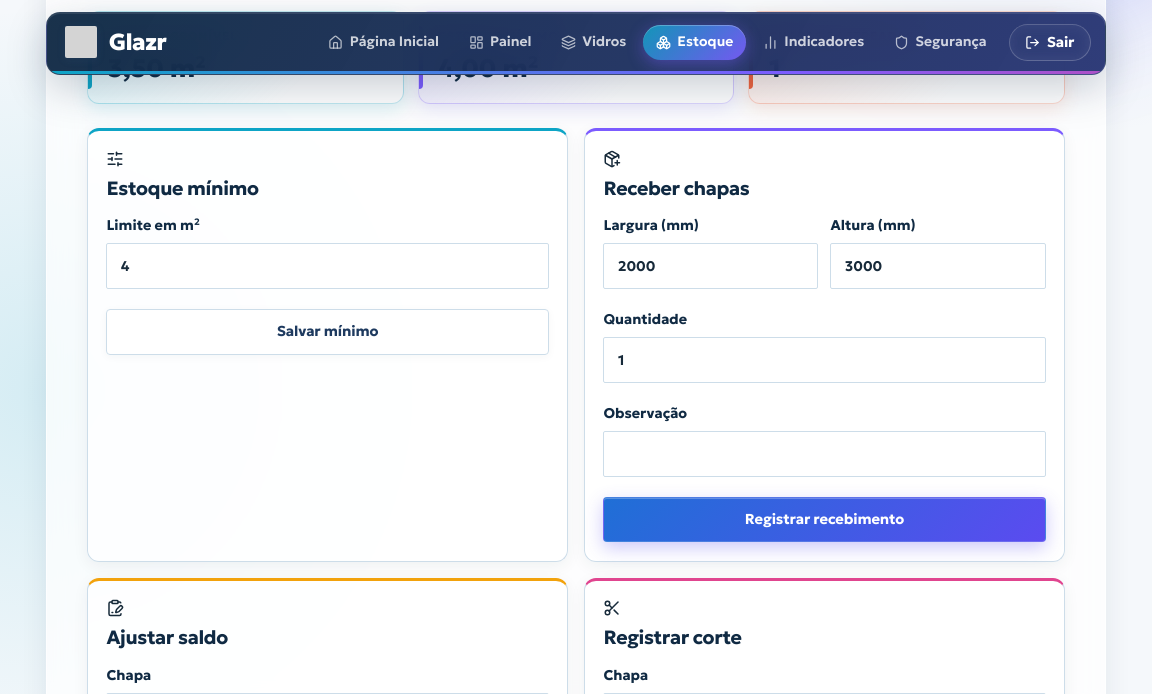
registers a sheet receipt with the authenticated CSRF flow
(page scrolled)
Replace the text in the number field named "Quantidade de chapas" with "2" at (824, 360), box [603,337,1046,383]
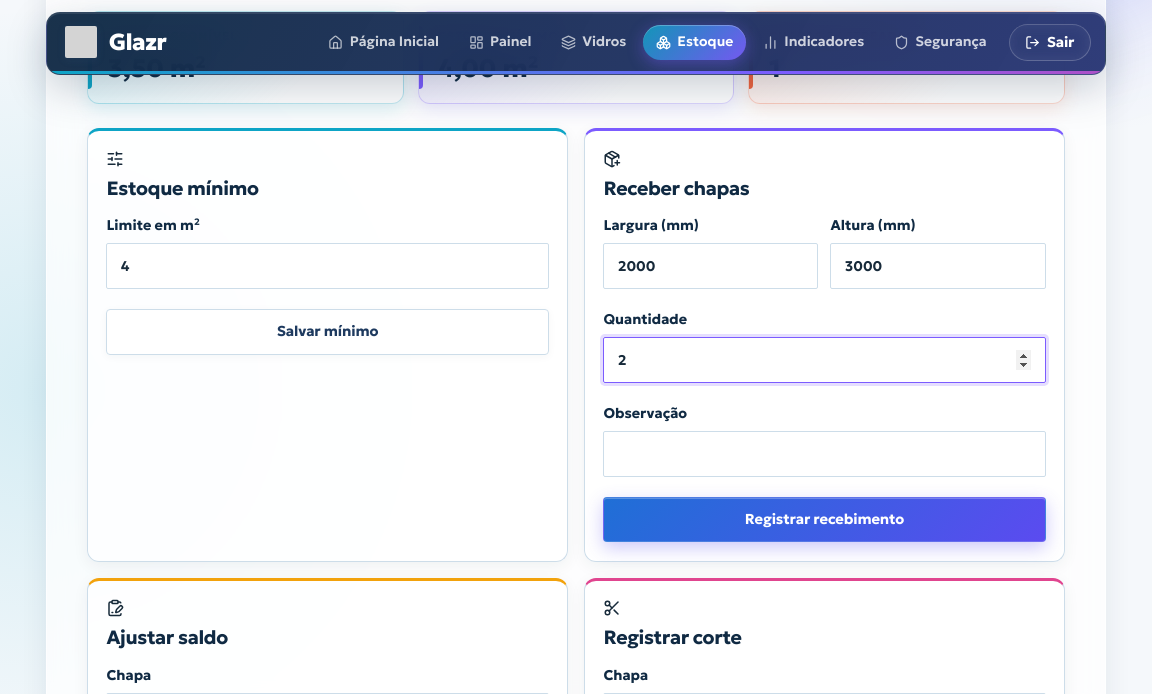
Type "Compra semanal" into the field named "Observação do recebimento" at (824, 454), box [603,431,1046,477]
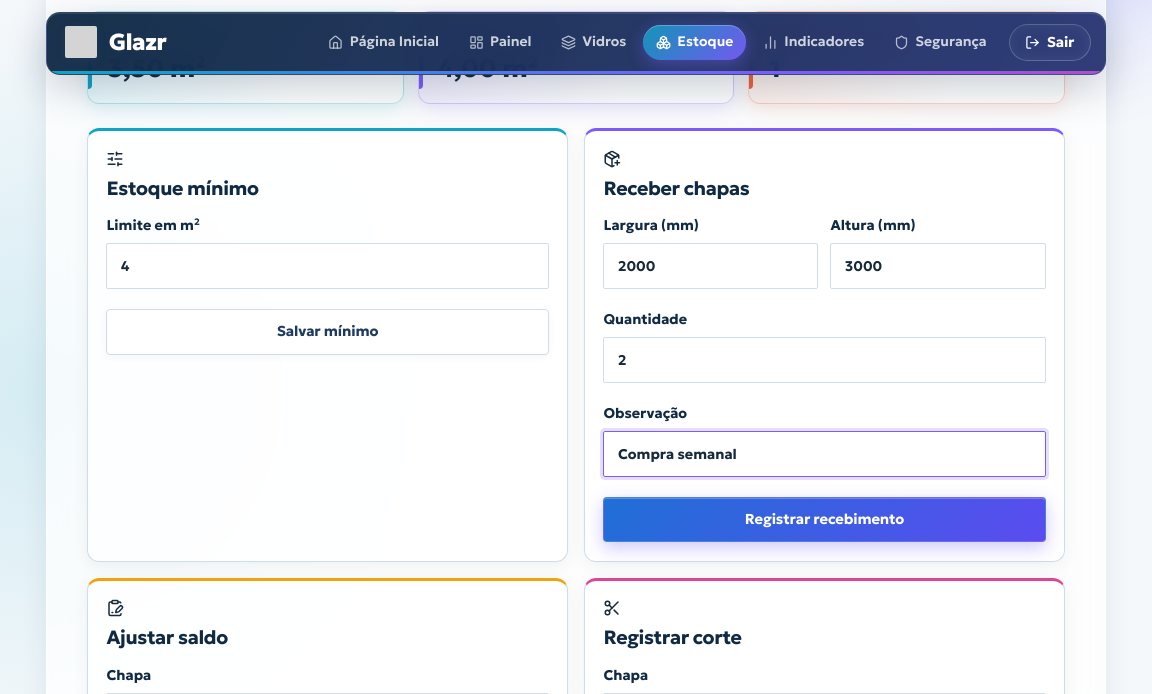
Click the button "Registrar recebimento" at (824, 520), box [603,497,1046,542]
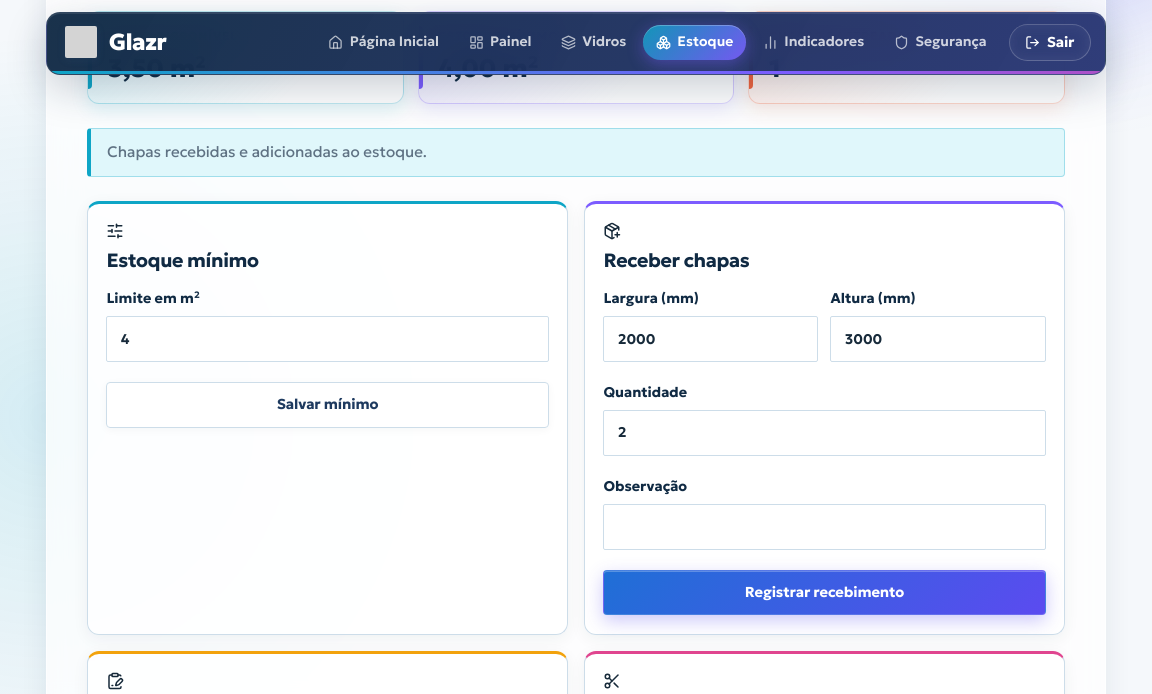
Now the text "Chapas recebidas e adicionadas ao estoque." is shown, box [87,128,1065,177]
